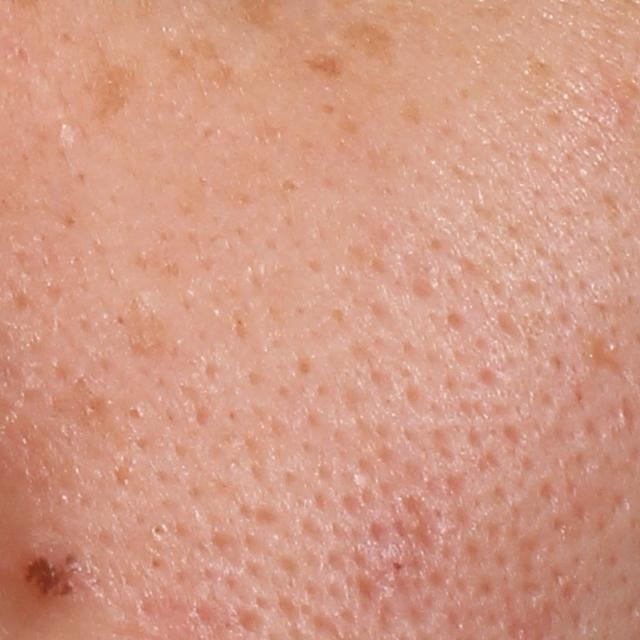atrophic_scar: (366, 496, 453, 584), (116, 293, 165, 368), (582, 329, 634, 381)
comedo: (148, 517, 173, 544)
melasma: (83, 49, 150, 130), (183, 28, 246, 96), (333, 14, 404, 68), (160, 37, 201, 87), (299, 47, 349, 83)
nevus: (12, 524, 95, 619)
